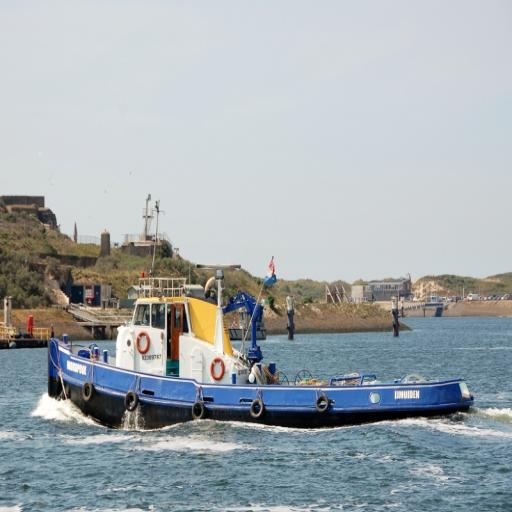tugboat: (45, 199, 480, 446)
